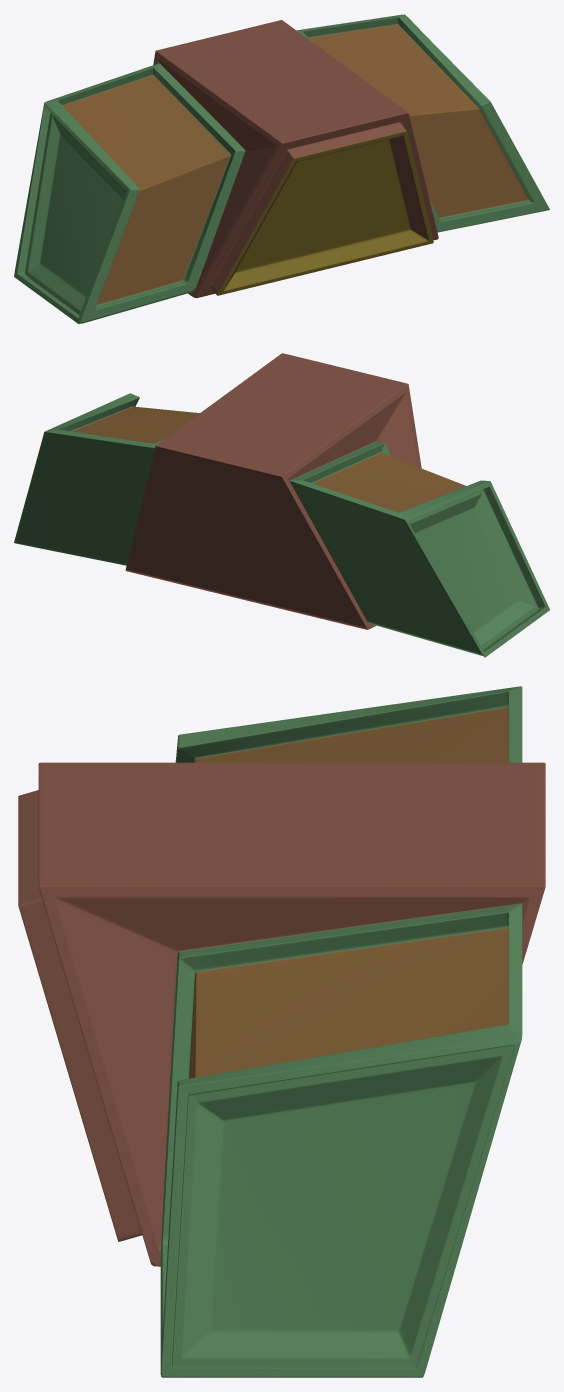
Rendered from Pedestal.fbx.
3 views of the same model, one above another, from view 1: azimuth 30°, elevation 25°; view 2: azimuth 150°, elevation 25°; view 3: azimuth 270°, elevation 25° (orthographic). The views are drawn at different scales.
Visible parts, largest first — view 1: Pedestal_High (×4); view 2: Pedestal_High (×3); view 3: Pedestal_High (×3).
Boxes of the visible parts, x1,y1,x2,y2 form: Pedestal_High (×4): (14,14,549,323); Pedestal_High (×3): (14,353,549,657); Pedestal_High (×3): (18,686,545,1377).
Size of the model in its own units: 9.98 by 3.28 by 4.84.
